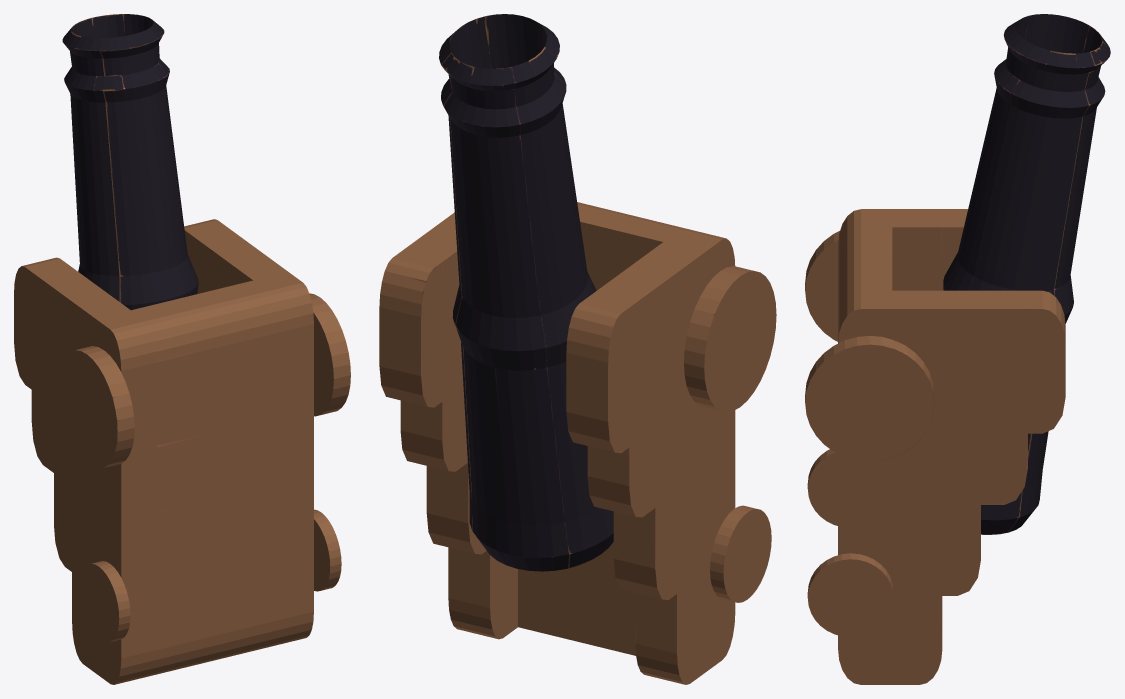
Rendered from upperdeckcannon.fbx.
3 renders of one model, left to right at view 1: azimuth 30°, elevation 25°; view 2: azimuth 150°, elevation 25°; view 3: azimuth 270°, elevation 25°, orthographic. The views are drawn at different scales.
Visible parts, largest first — view 1: Cube.001; view 2: Cube.001; view 3: Cube.001.
Boxes of the visible parts, x1,y1,x2,y2 form: Cube.001: (14, 14, 350, 684); Cube.001: (379, 14, 776, 684); Cube.001: (805, 14, 1110, 684).
Size of the model in its own units: 442 by 1037 by 473.
1 material, 1 textured.
